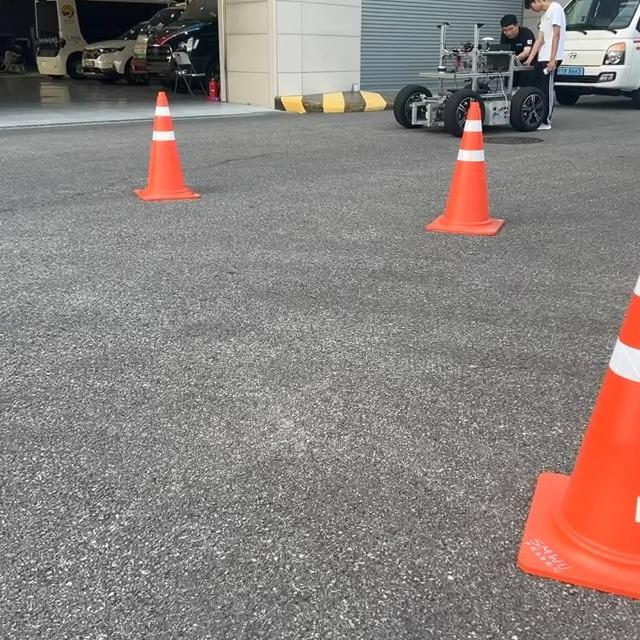fallen_object: (536, 250, 640, 588), (385, 85, 544, 251), (116, 90, 224, 210)
